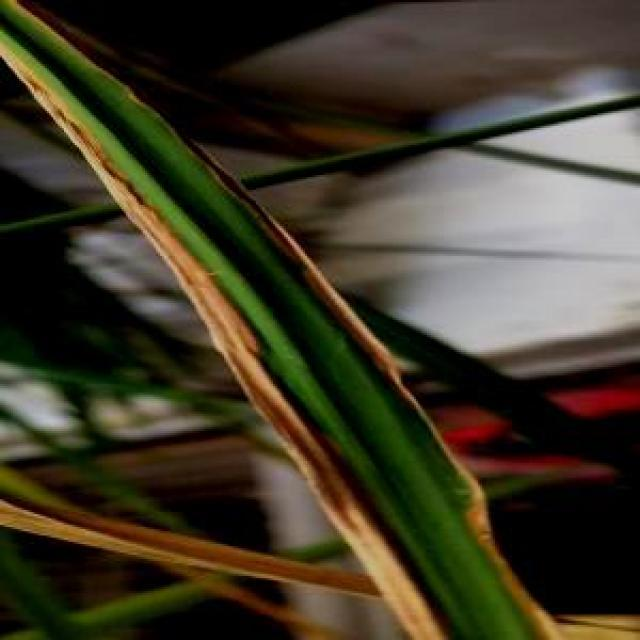Rice_Bacterial_Blight: (312, 377, 486, 638)
